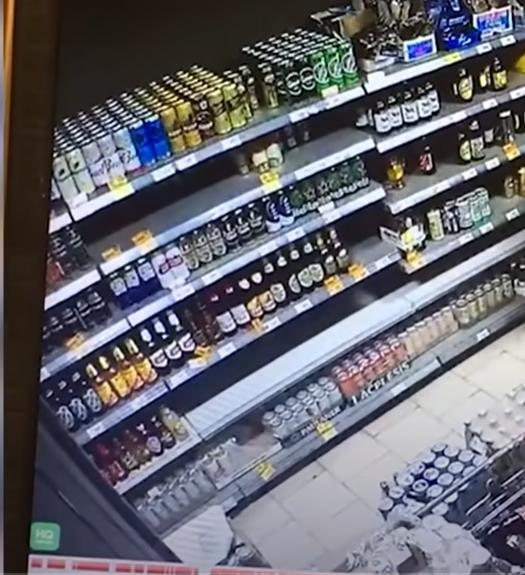NoHuman: (0, 0, 525, 563)
